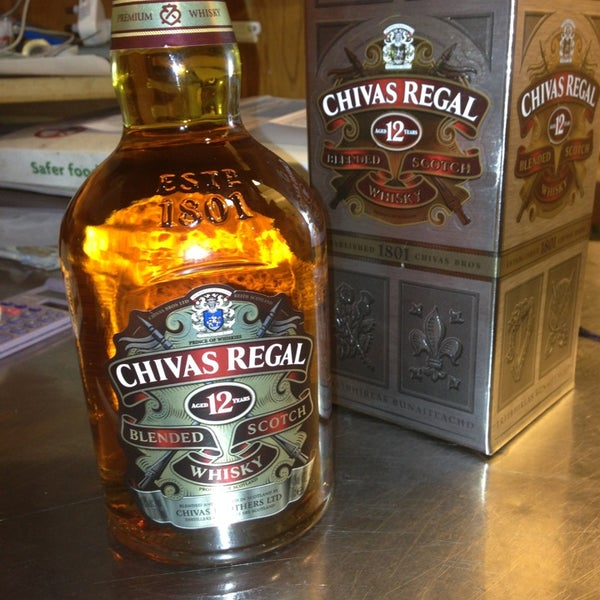Chivas Regal: (50, 1, 342, 576)
